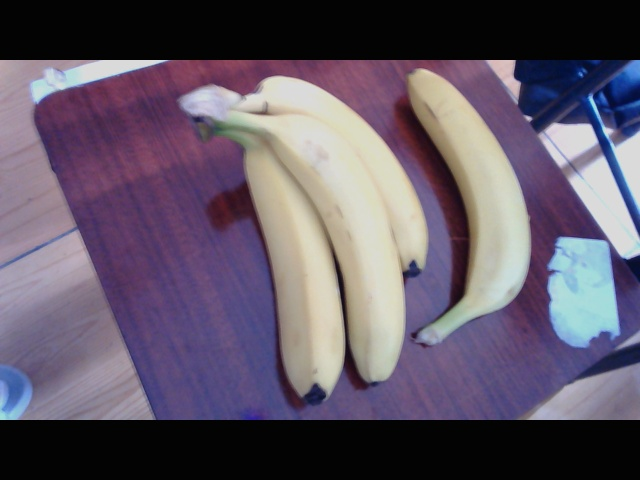banana: (198, 67, 421, 399), (411, 61, 552, 339)
